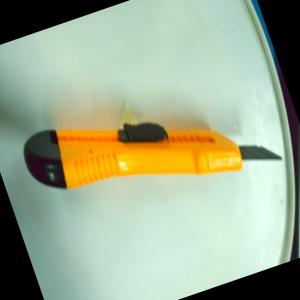estilete: (11, 56, 282, 242)
